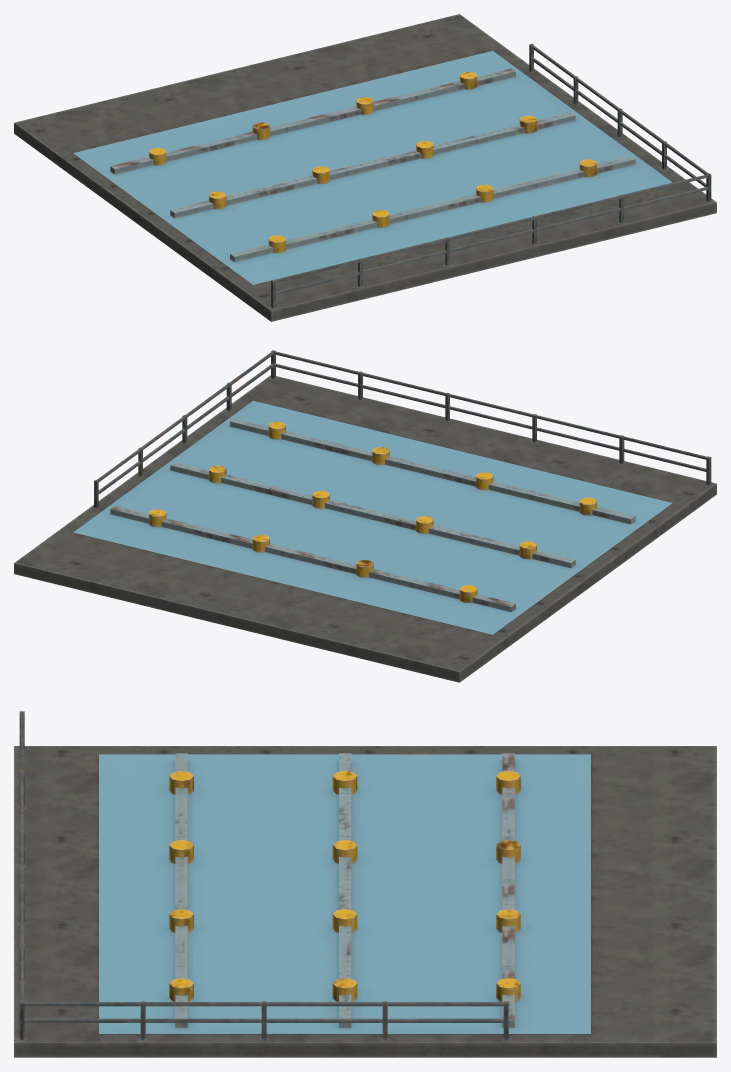
The model's file is water_farm.glb.
3 renders of one model, top to bottom at view 1: azimuth 30°, elevation 25°; view 2: azimuth 150°, elevation 25°; view 3: azimuth 270°, elevation 25°, orthographic. The views are drawn at different scales.
Visible parts, largest first — view 1: te_water_farm; view 2: te_water_farm; view 3: te_water_farm.
Part boxes in pixels (box(x1,y1,x2,y2)): te_water_farm: box(14, 14, 716, 321); te_water_farm: box(14, 350, 716, 682); te_water_farm: box(14, 711, 716, 1057).
Size of the model in its own units: 1.72 by 0.14 by 1.72.
Materials: 1 (1 with a texture image).
